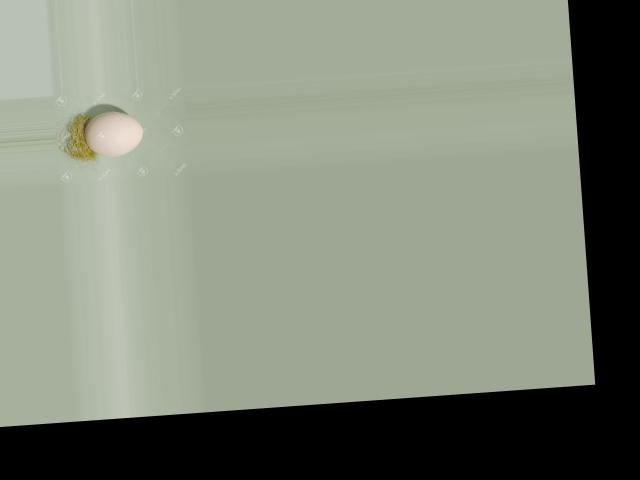egg: (84, 109, 144, 157)
